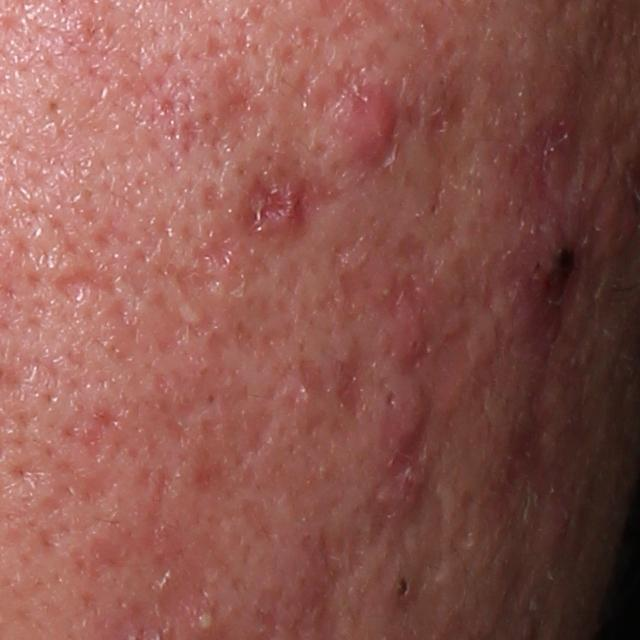atrophic_scar: (176, 52, 273, 152), (55, 389, 123, 501), (174, 231, 246, 294), (237, 166, 300, 231), (424, 73, 474, 148), (328, 333, 373, 415), (93, 303, 144, 359), (57, 266, 124, 307), (198, 177, 218, 212)
comedo: (389, 569, 412, 608)
papule: (346, 81, 396, 167), (387, 387, 433, 459), (381, 314, 432, 370)
